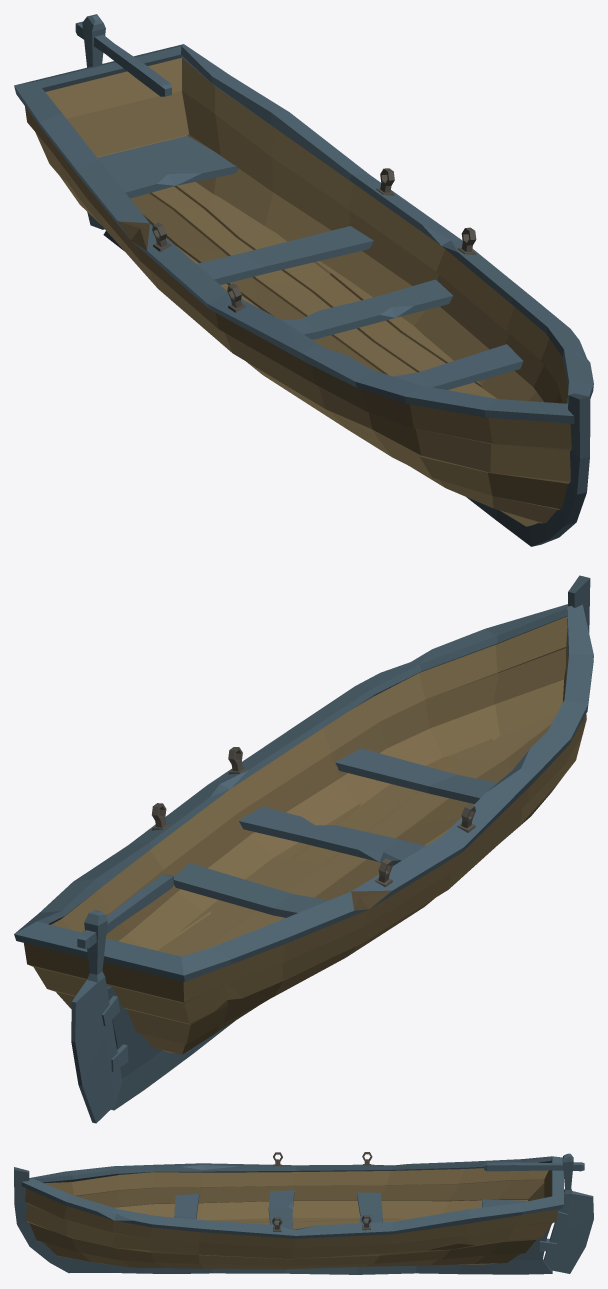
The model's file is BoatLarge_2.fbx.
The picture shows the model from 3 angles, top to bottom: view 1: azimuth 30°, elevation 25°; view 2: azimuth 150°, elevation 25°; view 3: azimuth 270°, elevation 25°; orthographic projection. The views are drawn at different scales.
Visible parts, largest first — view 1: BoatLarge_2, BoatLarge_2_Rudder; view 2: BoatLarge_2, BoatLarge_2_Rudder; view 3: BoatLarge_2, BoatLarge_2_Rudder.
Part boxes in pixels (<box>): BoatLarge_2: <box>14,44,593,546</box>; BoatLarge_2_Rudder: <box>75,14,171,229</box>; BoatLarge_2: <box>14,575,593,1110</box>; BoatLarge_2_Rudder: <box>71,874,173,1123</box>; BoatLarge_2: <box>14,1152,567,1274</box>; BoatLarge_2_Rudder: <box>484,1153,593,1273</box>.
Bounding box in the file's own units: 187 × 147 × 647.
